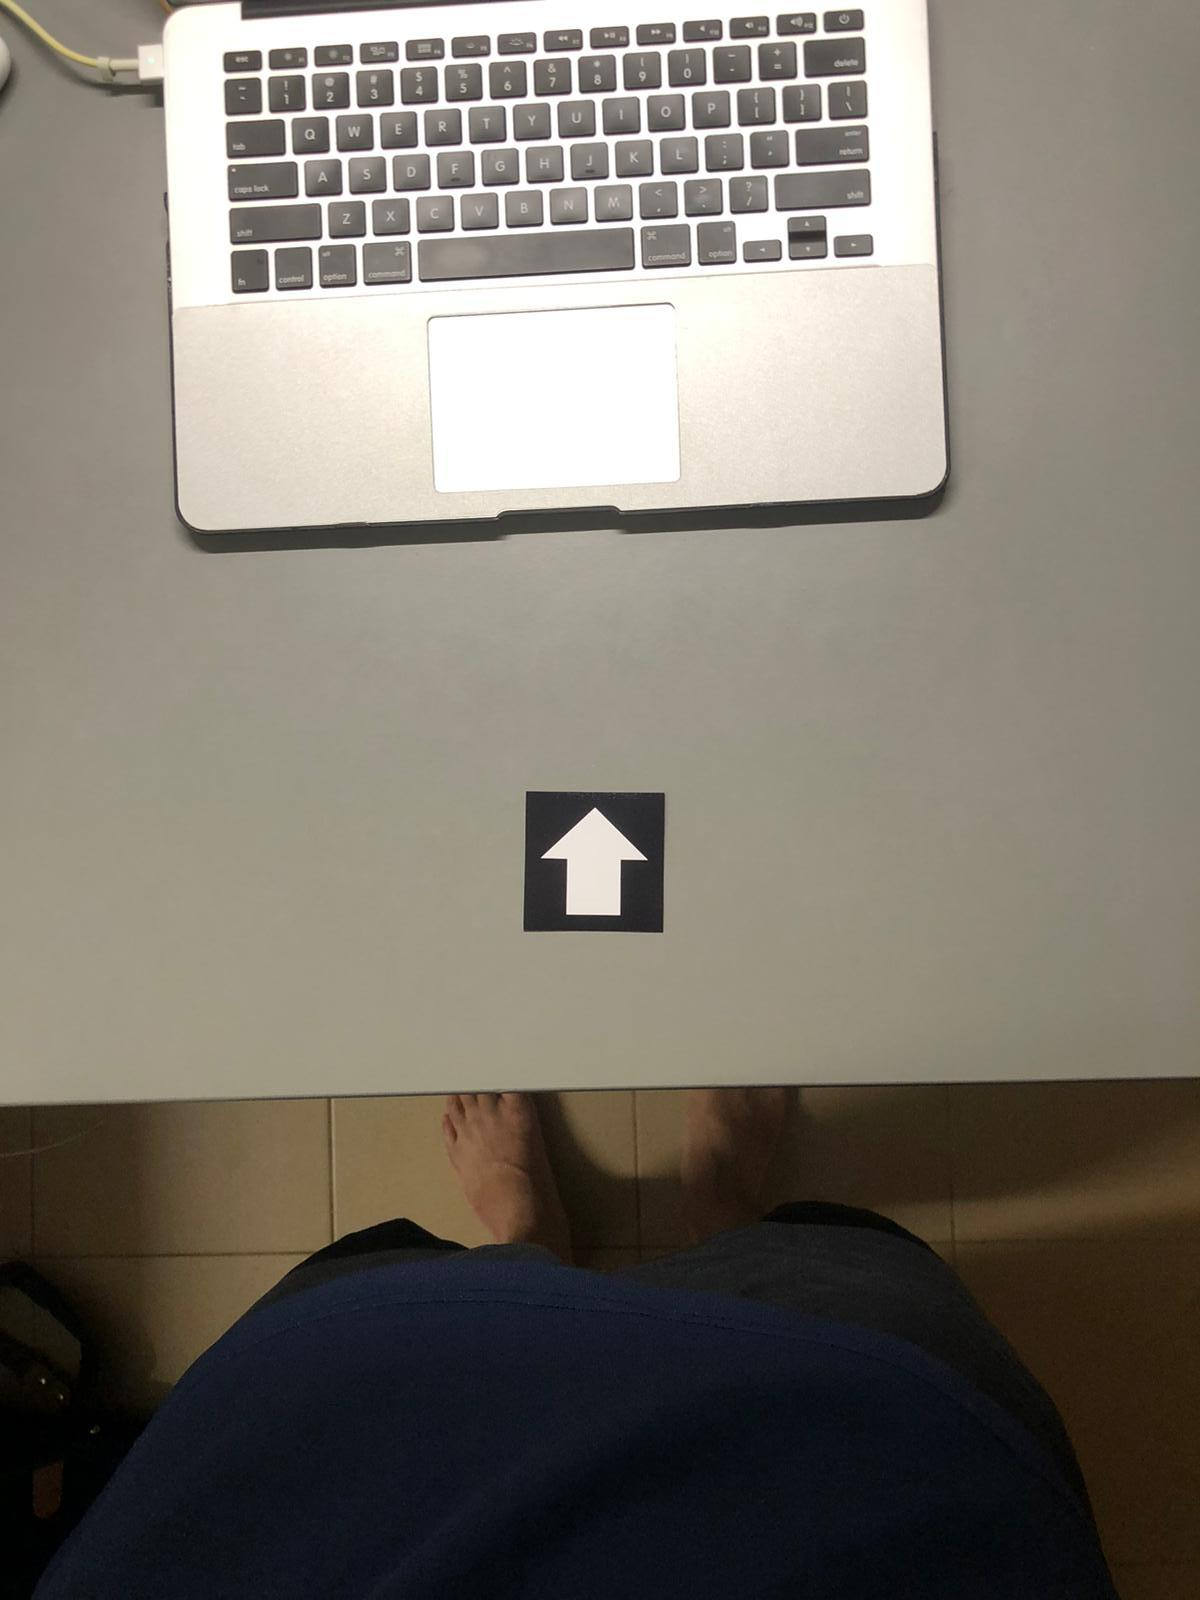Top Arrow: (516, 795, 671, 940)
